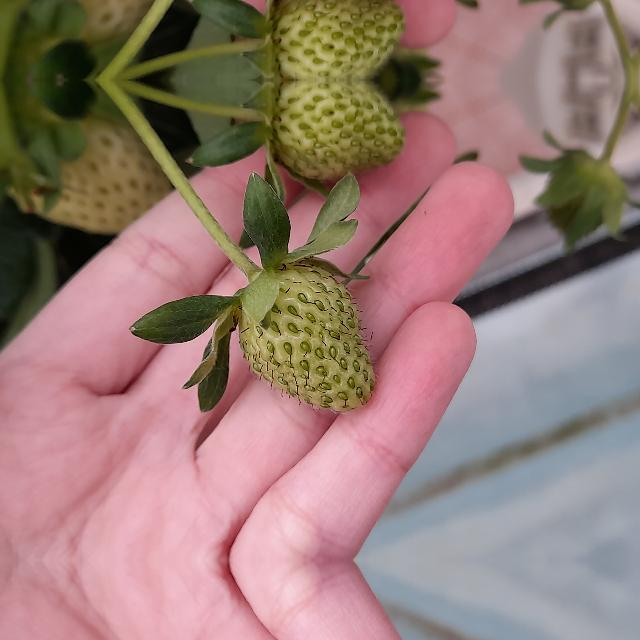Health_25: (238, 264, 376, 412), (270, 80, 408, 176), (270, 0, 408, 80)
